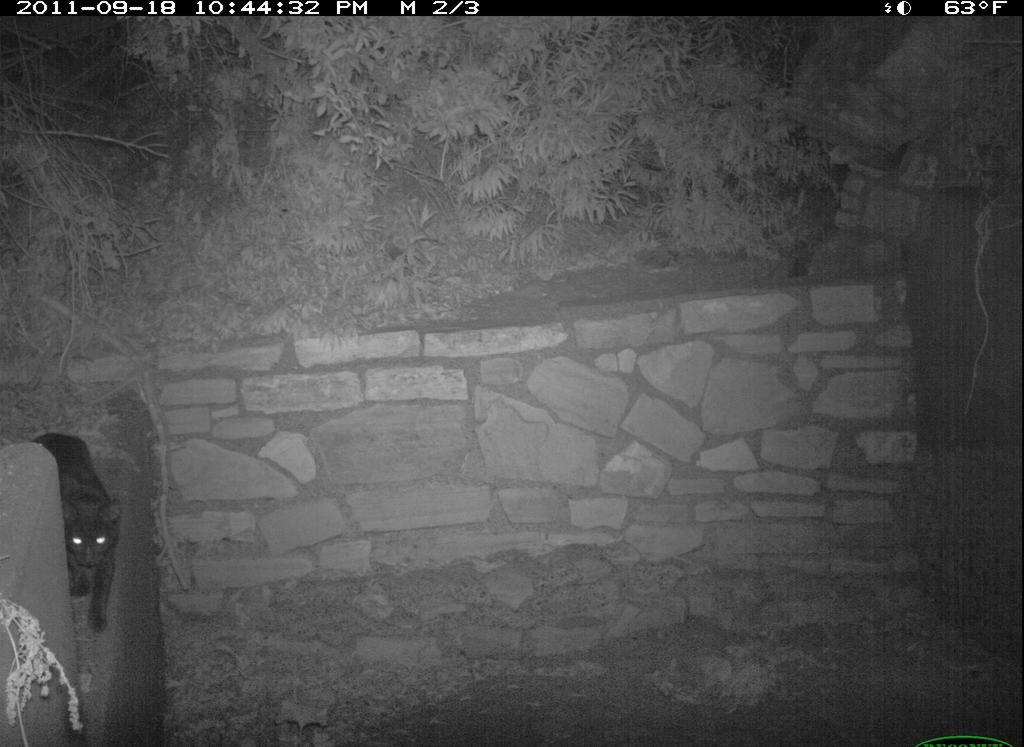cat: (29, 420, 149, 634)
